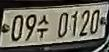0: (10, 14, 24, 42), (57, 11, 69, 39), (90, 9, 100, 35)
1: (69, 10, 79, 37)
2: (80, 9, 90, 36)
9: (25, 13, 37, 41)
수: (38, 13, 49, 40)
